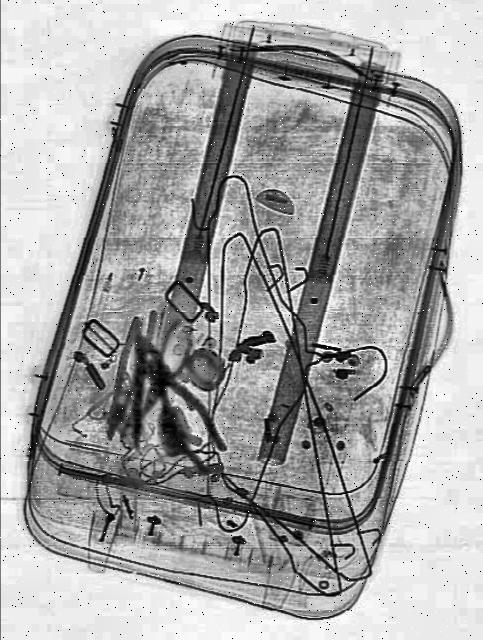Pliers: (121, 324, 234, 482), (99, 305, 161, 445), (128, 316, 202, 429)
